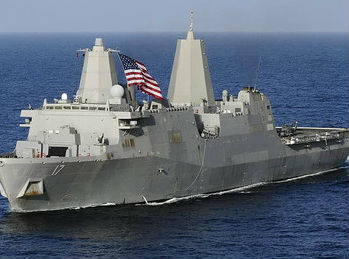warship: (1, 10, 349, 213)
